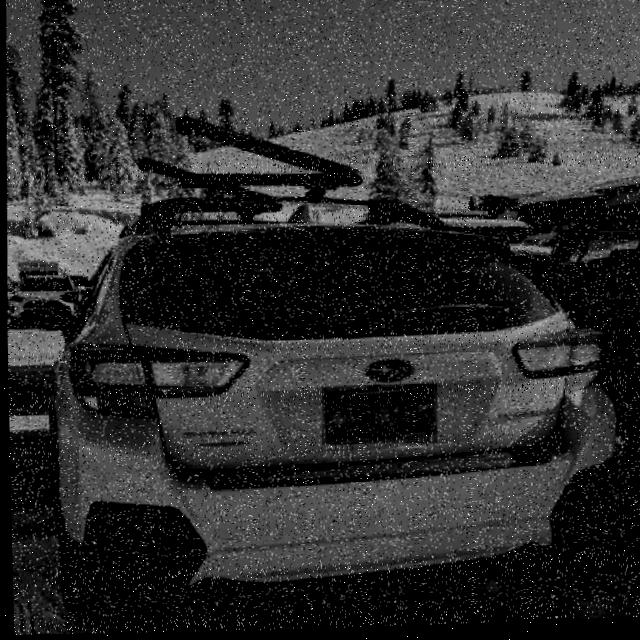LicensePlate: (320, 387, 435, 447)
